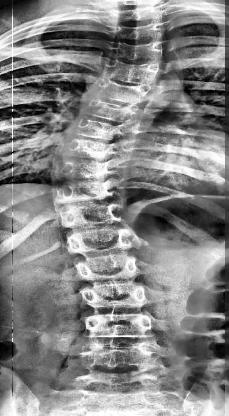Vertebrae: (81, 337, 163, 371), (56, 193, 128, 230), (63, 223, 138, 256), (52, 175, 130, 205), (72, 252, 142, 284), (79, 281, 151, 311), (79, 311, 155, 339), (54, 154, 128, 182), (86, 78, 158, 106), (99, 55, 165, 85), (54, 134, 130, 160), (105, 38, 173, 62), (77, 98, 137, 124), (66, 116, 124, 142)
